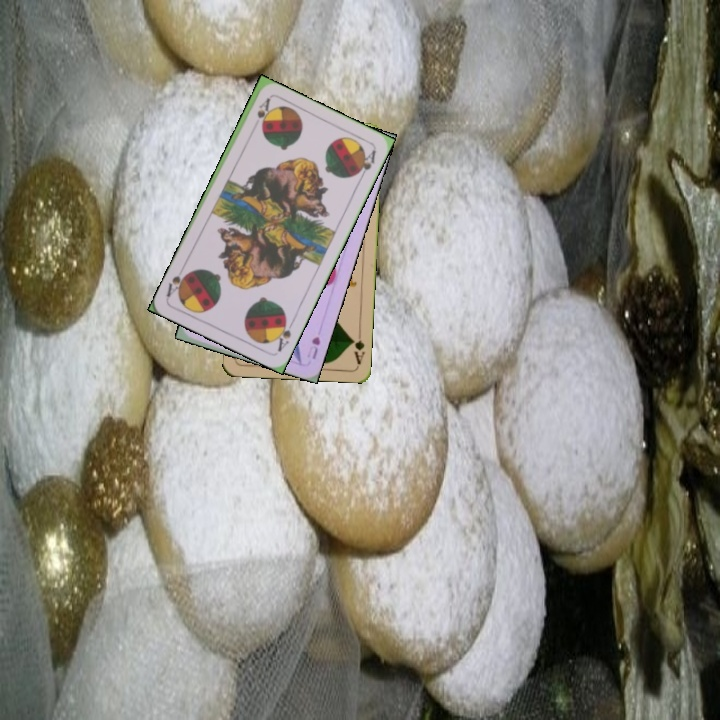GA: (348, 326, 367, 367)
HU: (303, 332, 323, 362)
SA: (272, 313, 297, 355), (253, 94, 273, 121)
